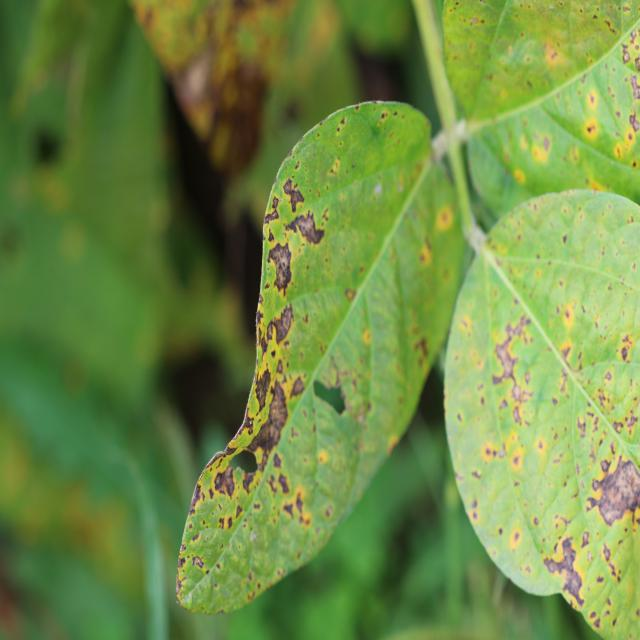Bacterial_Blight: (589, 455, 640, 524), (542, 535, 585, 605), (491, 315, 531, 389), (266, 240, 293, 295), (284, 208, 324, 245), (507, 384, 535, 430), (269, 303, 294, 347), (212, 463, 236, 499), (282, 177, 305, 213), (254, 367, 271, 411), (188, 479, 206, 518), (481, 437, 507, 463), (286, 495, 310, 523), (624, 71, 640, 112), (263, 195, 281, 227), (531, 139, 551, 164), (618, 332, 635, 361), (504, 429, 522, 455), (542, 41, 561, 65), (436, 206, 454, 231), (561, 303, 577, 330), (414, 336, 429, 362), (418, 239, 433, 265), (242, 469, 256, 495), (624, 409, 639, 432), (265, 320, 277, 347), (291, 375, 306, 396), (277, 471, 290, 495), (559, 344, 573, 366), (509, 528, 523, 549), (576, 414, 587, 437), (259, 331, 268, 357), (511, 450, 523, 469), (282, 501, 294, 519), (632, 74, 640, 100), (513, 168, 526, 184), (602, 543, 612, 563), (220, 515, 233, 530), (191, 555, 204, 569), (581, 530, 591, 547), (344, 287, 356, 301), (318, 450, 329, 464), (622, 49, 631, 64), (235, 504, 243, 519), (470, 498, 478, 513), (363, 329, 371, 344), (586, 123, 596, 134), (247, 420, 254, 435), (177, 556, 185, 569), (325, 505, 333, 518), (272, 196, 280, 208), (257, 293, 264, 306), (179, 543, 187, 553), (302, 313, 309, 324), (562, 233, 568, 245), (339, 117, 346, 126), (294, 160, 300, 170), (381, 112, 388, 120), (264, 282, 270, 290), (248, 572, 253, 581), (188, 522, 193, 530)
Soybean: (176, 102, 460, 617)
